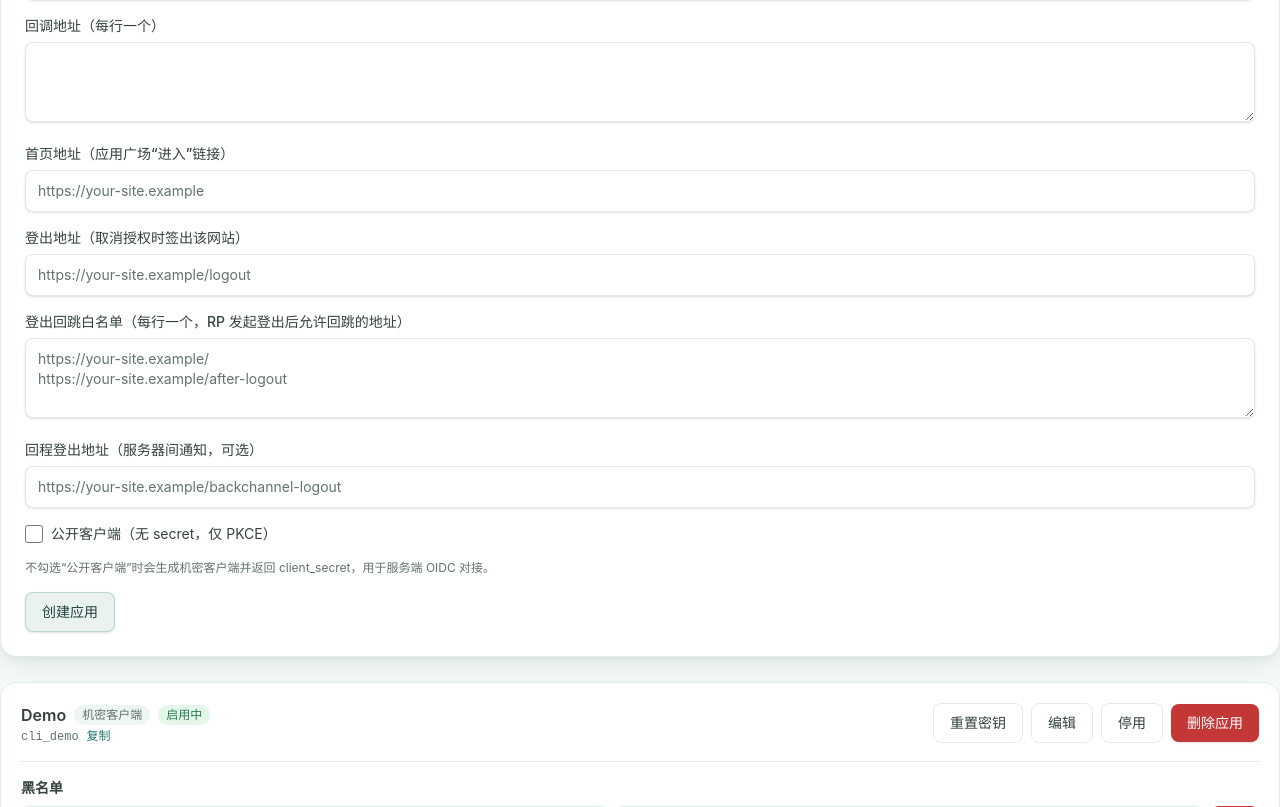
Test case: AdminClientsPage › 重置密钥后展示新 secret
(page scrolled)
Expected: the text "Demo" is shown, [21,705,66,725]
Click the button "编辑".
click(1062, 723)  # box [1031,703,1093,743]
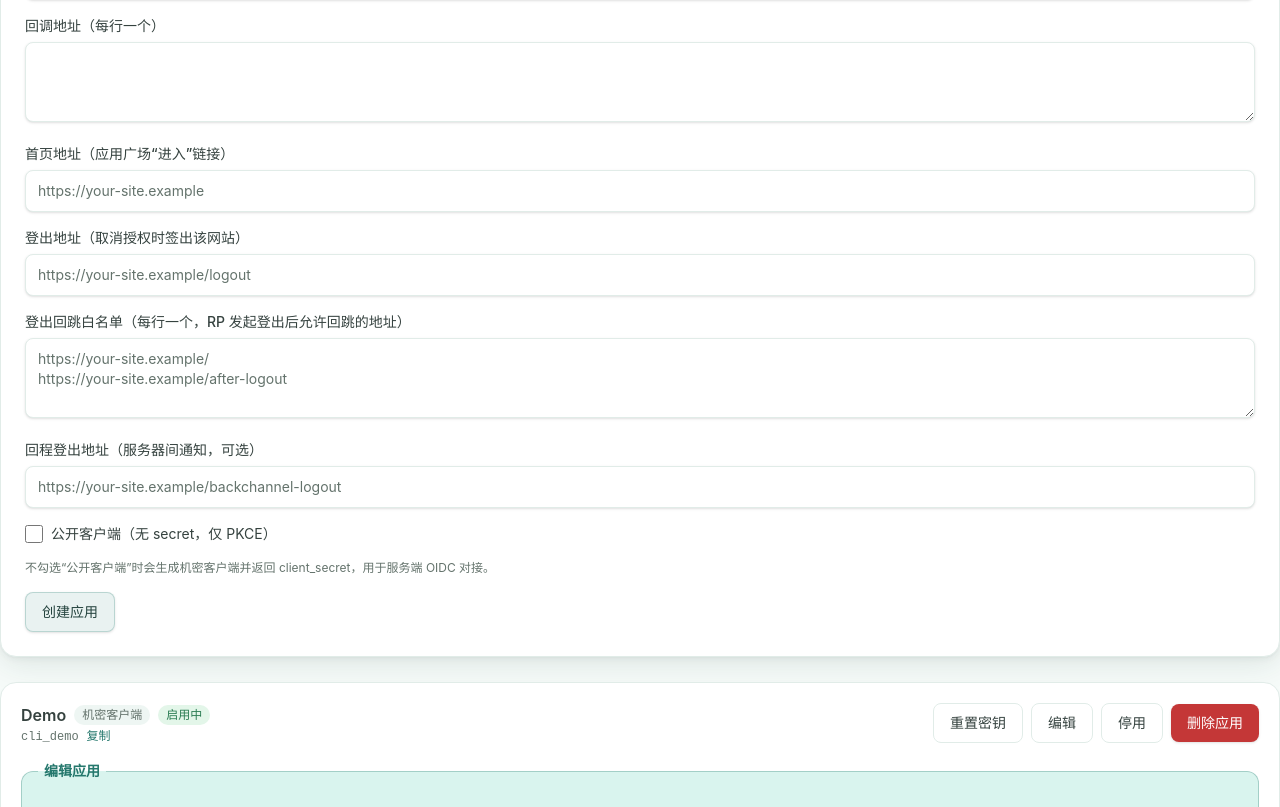
Click the button "重置密钥".
click(978, 723)  # box [933,703,1023,743]
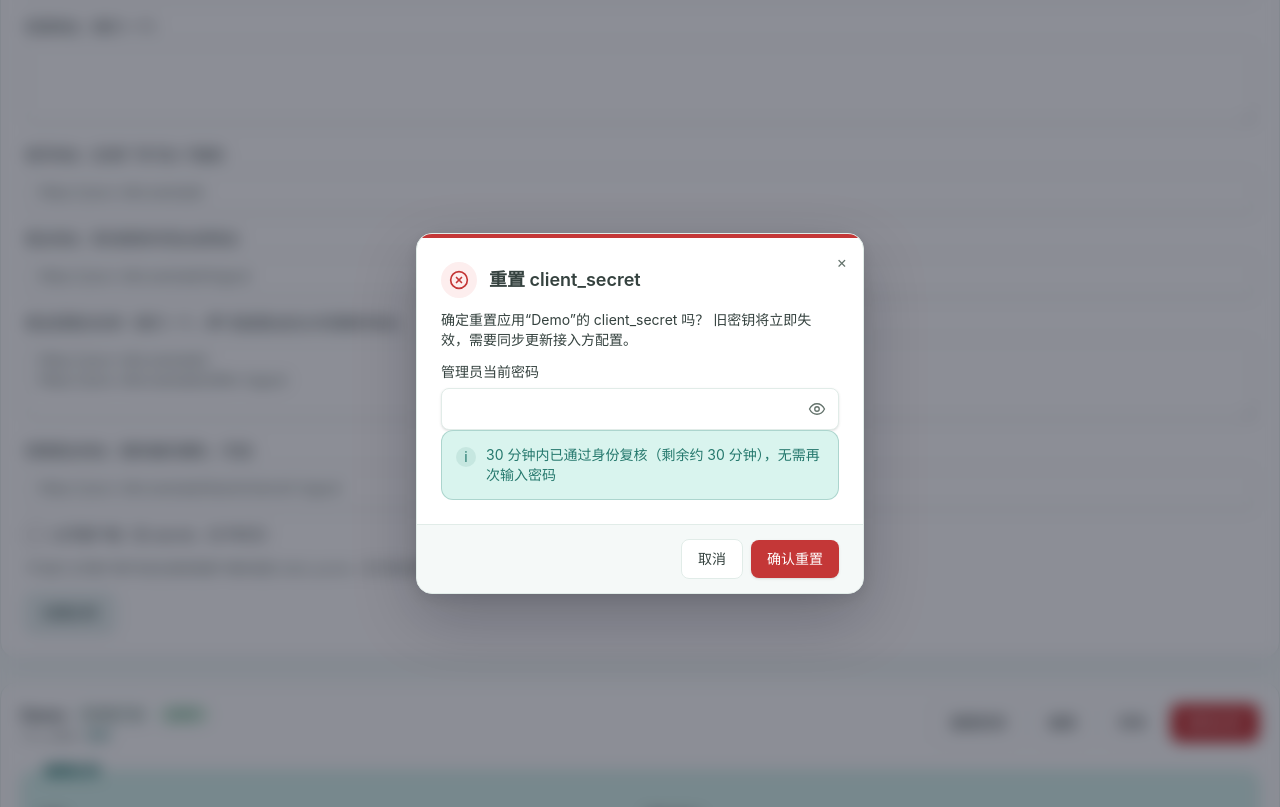
Click the button "确认重置".
click(795, 558)  # box [751,540,839,578]
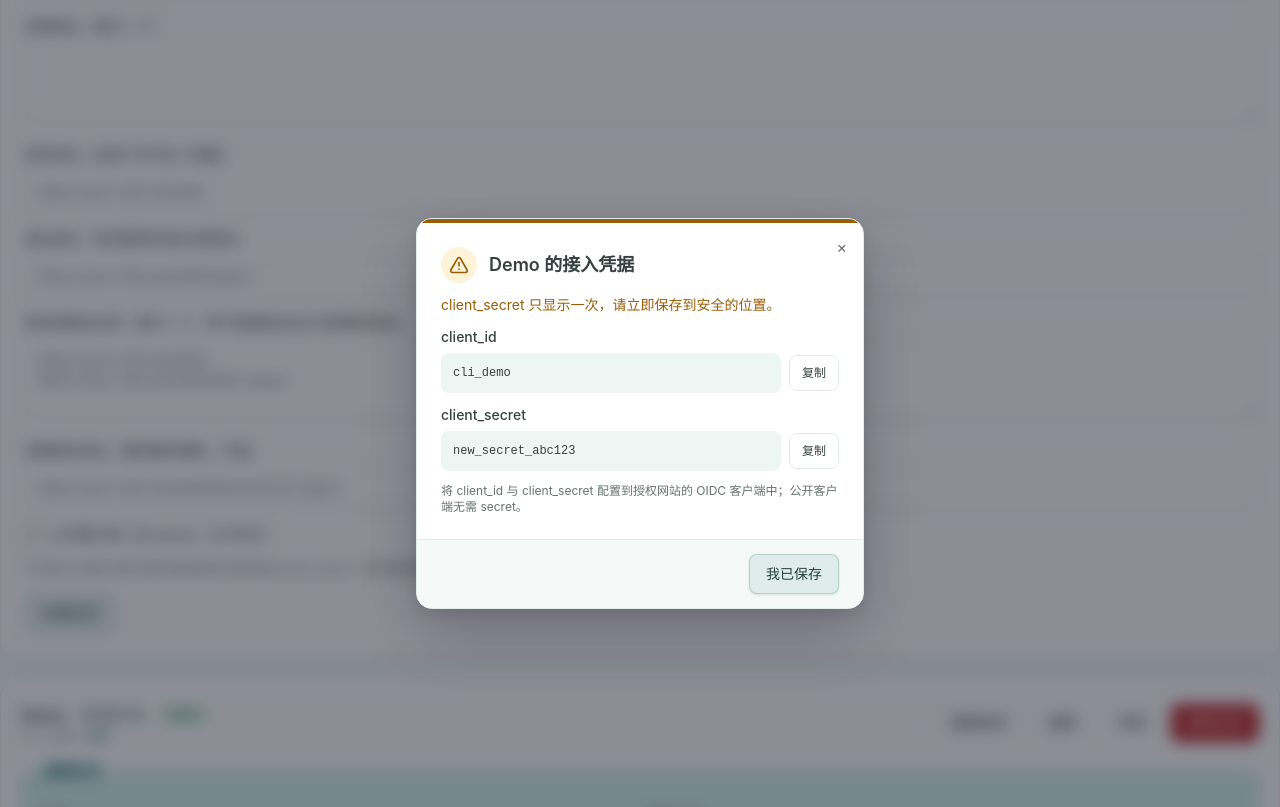
Result: the text "new_secret_abc123" is shown at [441,430,781,470]
